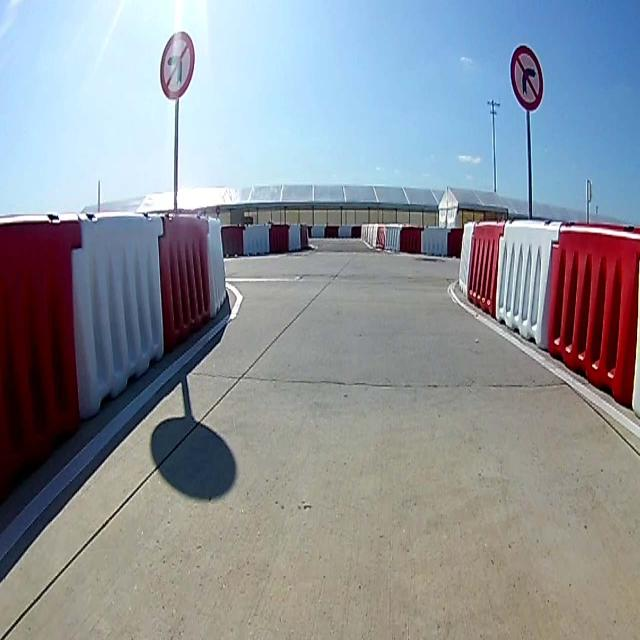sagadonulmez: (508, 46, 544, 110)
soladonulmez: (160, 30, 194, 99)
